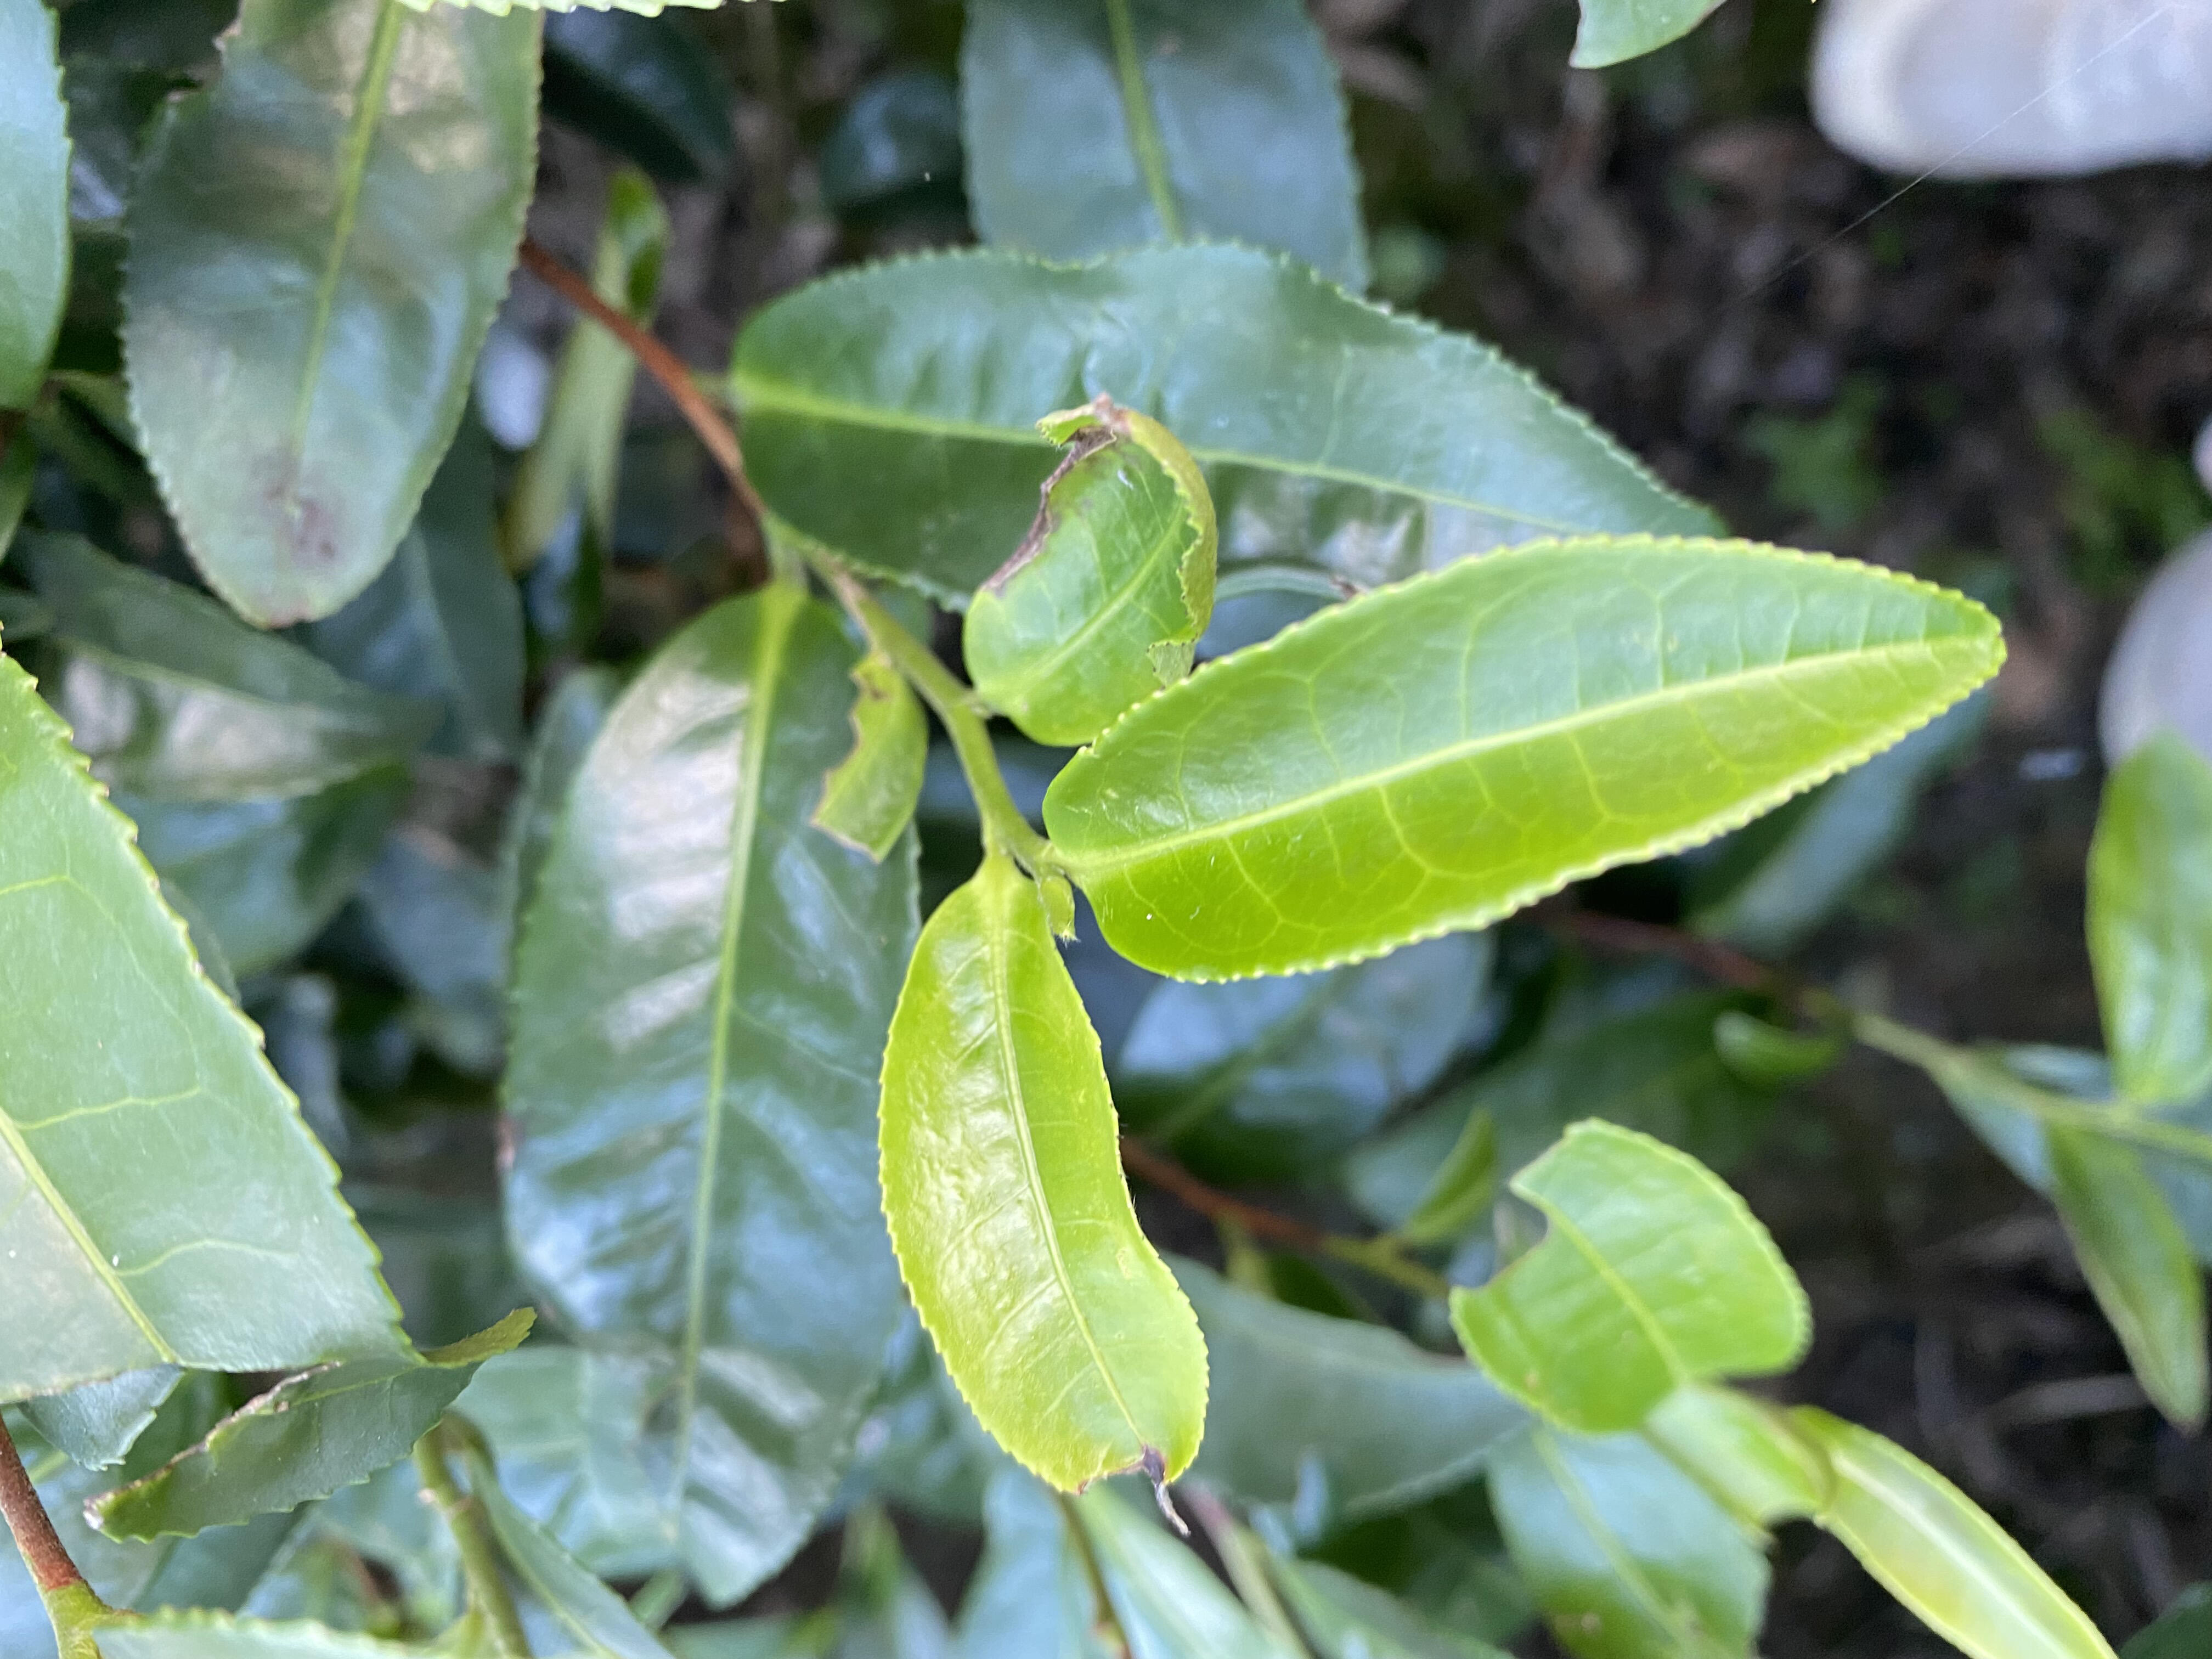chihuo_high: (2, 645, 540, 1546), (1446, 1115, 1817, 1439), (808, 650, 932, 861)
healthy: (1042, 535, 2008, 986)
tanju_high: (871, 864, 1212, 1535), (960, 399, 1219, 749)
